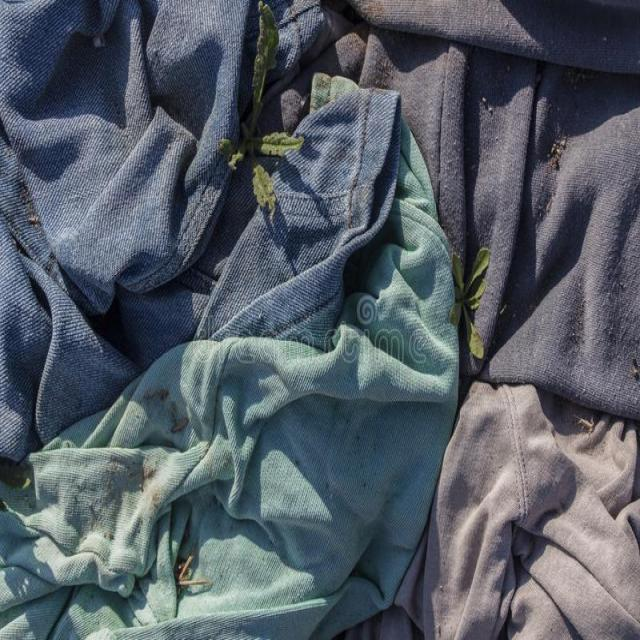clothes: (33, 195, 549, 600)
